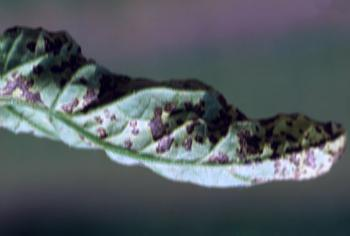Tomato leaf bacterial spot: (3, 23, 346, 192)
